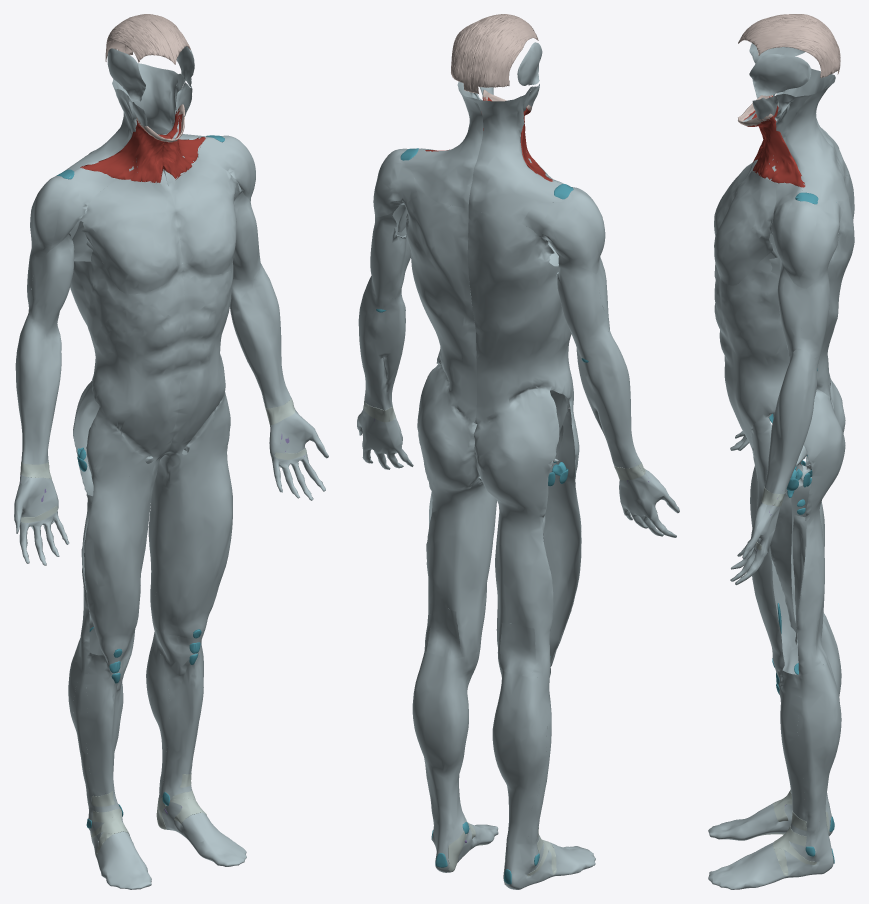
Rendered from muscles-extra.glb.
3 views of the same model, side by side, from view 1: azimuth 30°, elevation 25°; view 2: azimuth 150°, elevation 25°; view 3: azimuth 270°, elevation 25° (orthographic). The views are drawn at different scales.
Parts seen in each view (by area): view 1: muscle-investing-abdominal-fascia-r, muscle-fascia-lata-l, muscle-fascia-lata-r, muscle-crural-fascia-l, muscle-crural-fascia-r, muscle-pectoral-fascia-r, muscle-investing-abdominal-fascia-l, muscle-pectoral-fascia-l, muscle-antebrachial-fascia-r, muscle-antebrachial-fascia-l, muscle-deltoid-fascia-r, muscle-brachial-fascia-r (+11 smaller); view 2: muscle-fascia-lata-r, muscle-investing-abdominal-fascia-r, muscle-fascia-lata-l, muscle-crural-fascia-r, muscle-investing-abdominal-fascia-l, muscle-crural-fascia-l, muscle-superficial-investing-cervical-fascia-r, muscle-antebrachial-fascia-r, muscle-antebrachial-fascia-l, muscle-deltoid-fascia-r, muscle-superficial-investing-cervical-fascia-l, muscle-brachial-fascia-r (+9 smaller); view 3: muscle-crural-fascia-l, muscle-investing-abdominal-fascia-l, muscle-fascia-lata-l, muscle-deltoid-fascia-l, muscle-pectoral-fascia-l, muscle-superficial-investing-cervical-fascia-l, muscle-antebrachial-fascia-l, muscle-brachial-fascia-l, muscle-epicranial-aponeurosis-l, muscle-crural-fascia-r, muscle-platysma-l, muscle-superficial-layer-of-temporal-fascia-l (+14 smaller).
Part boxes in pixels (left/top/right/bottom): muscle-investing-abdominal-fascia-r: left=70, top=239, right=184, bottom=457; muscle-fascia-lata-l: left=146, top=392, right=232, bottom=638; muscle-fascia-lata-r: left=73, top=380, right=165, bottom=658; muscle-crural-fascia-l: left=146, top=622, right=246, bottom=866; muscle-crural-fascia-r: left=68, top=632, right=151, bottom=889; muscle-pectoral-fascia-r: left=78, top=178, right=182, bottom=294; muscle-investing-abdominal-fascia-l: left=163, top=169, right=233, bottom=452; muscle-pectoral-fascia-l: left=167, top=158, right=237, bottom=274; muscle-antebrachial-fascia-r: left=15, top=315, right=61, bottom=464; muscle-antebrachial-fascia-l: left=230, top=263, right=291, bottom=408; muscle-deltoid-fascia-r: left=30, top=169, right=113, bottom=257; muscle-brachial-fascia-r: left=27, top=232, right=74, bottom=329; muscle-fascia-lata-r: left=474, top=389, right=581, bottom=677; muscle-investing-abdominal-fascia-r: left=467, top=206, right=573, bottom=426; muscle-fascia-lata-l: left=417, top=363, right=496, bottom=657; muscle-crural-fascia-r: left=492, top=665, right=595, bottom=889; muscle-investing-abdominal-fascia-l: left=401, top=177, right=526, bottom=424; muscle-crural-fascia-l: left=412, top=648, right=498, bottom=872; muscle-superficial-investing-cervical-fascia-r: left=468, top=86, right=566, bottom=216; muscle-antebrachial-fascia-r: left=575, top=330, right=641, bottom=468; muscle-antebrachial-fascia-l: left=358, top=276, right=405, bottom=410; muscle-deltoid-fascia-r: left=521, top=173, right=605, bottom=274; muscle-superficial-investing-cervical-fascia-l: left=399, top=81, right=483, bottom=208; muscle-brachial-fascia-r: left=555, top=251, right=609, bottom=347; muscle-crural-fascia-l: left=708, top=647, right=841, bottom=889; muscle-investing-abdominal-fascia-l: left=714, top=195, right=854, bottom=448; muscle-fascia-lata-l: left=751, top=389, right=845, bottom=674; muscle-deltoid-fascia-l: left=771, top=183, right=843, bottom=288; muscle-pectoral-fascia-l: left=714, top=171, right=776, bottom=285; muscle-superficial-investing-cervical-fascia-l: left=752, top=78, right=848, bottom=205; muscle-antebrachial-fascia-l: left=764, top=348, right=820, bottom=493; muscle-brachial-fascia-l: left=777, top=261, right=829, bottom=357; muscle-epicranial-aponeurosis-l: left=738, top=18, right=840, bottom=78; muscle-crural-fascia-r: left=708, top=618, right=841, bottom=840; muscle-platysma-l: left=738, top=113, right=805, bottom=187; muscle-superficial-layer-of-temporal-fascia-l: left=749, top=54, right=811, bottom=95.
Size of the model in its own units: 0.6707 by 1.7 by 0.2685.
